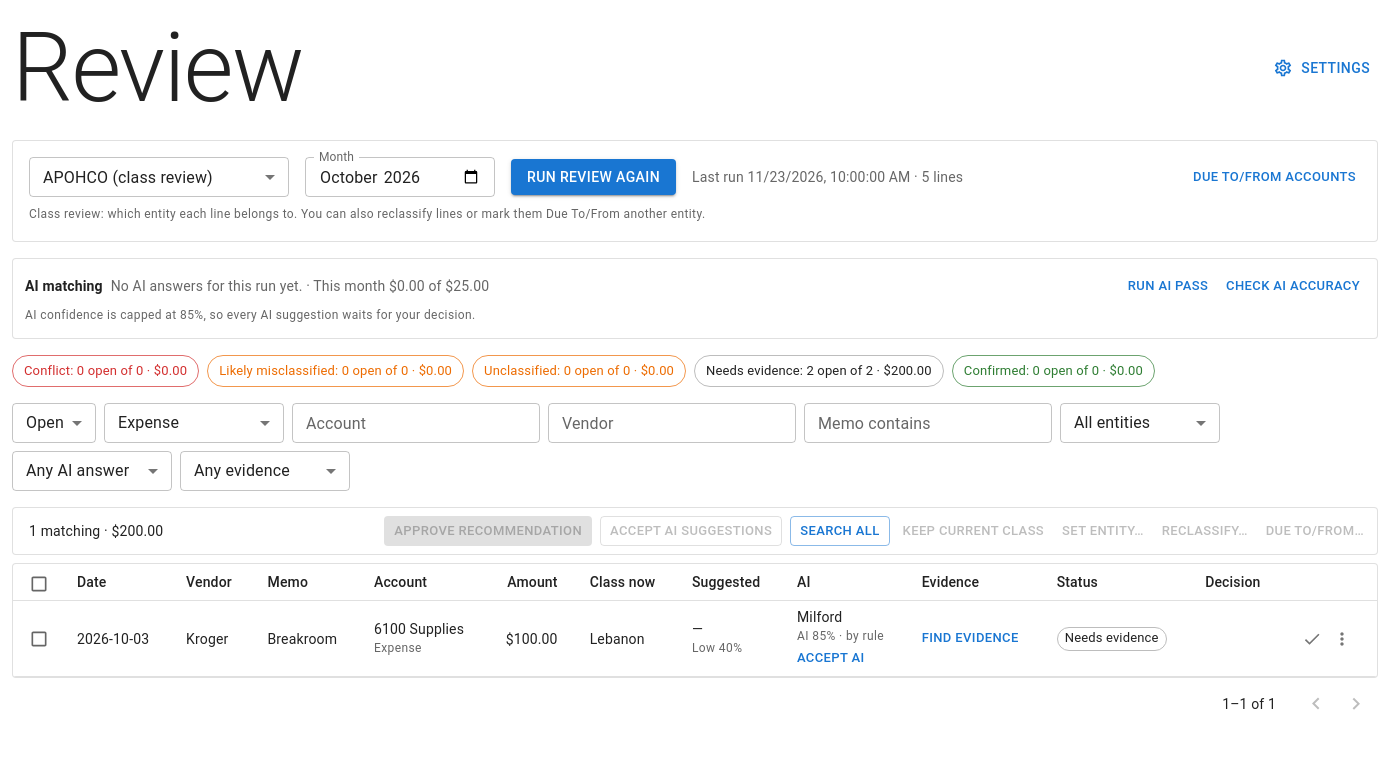
Test: running a review says how many lines the AI is looking at
Click the button "Run review again" at (594, 177), box [511,159,676,195]
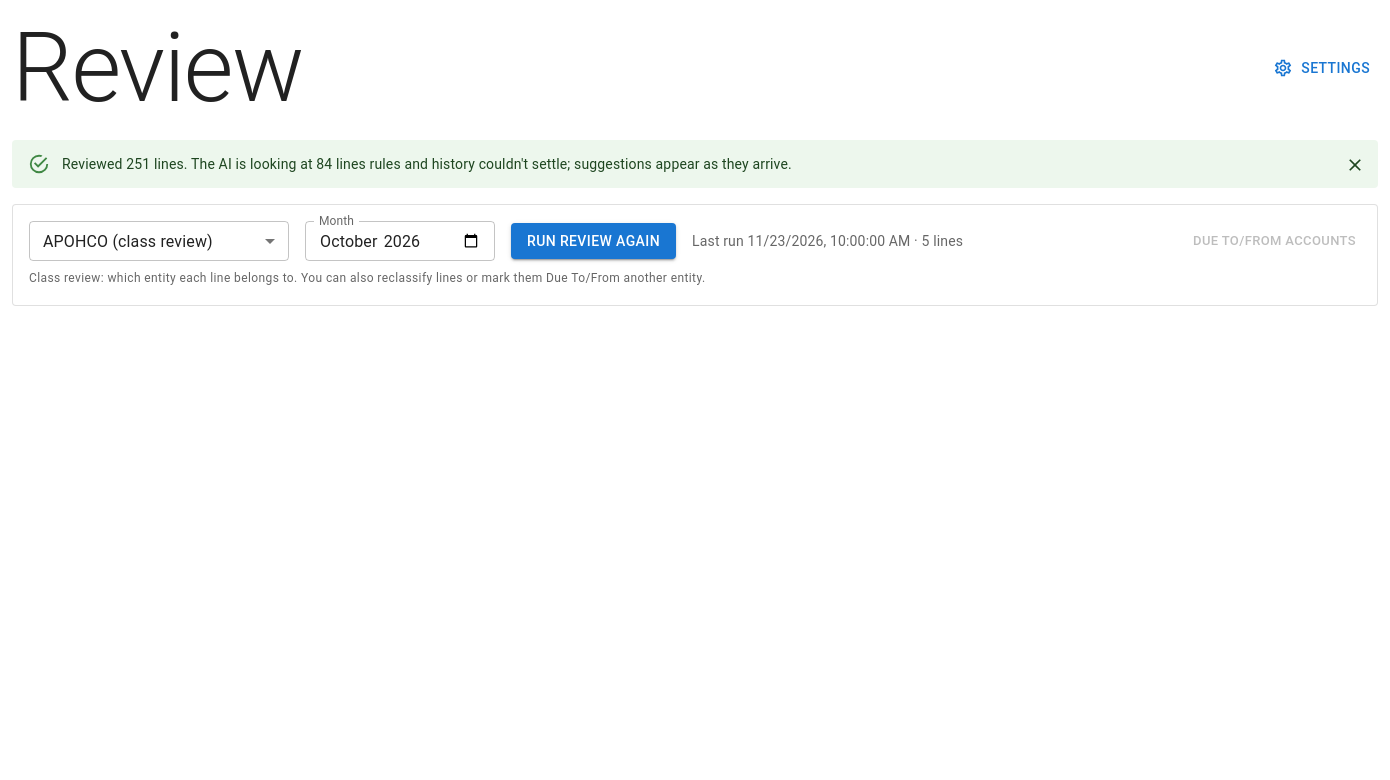
Check: the text "Reviewed 251 lines. The AI is looking at 84 lines" is shown, box [62,156,792,172]
